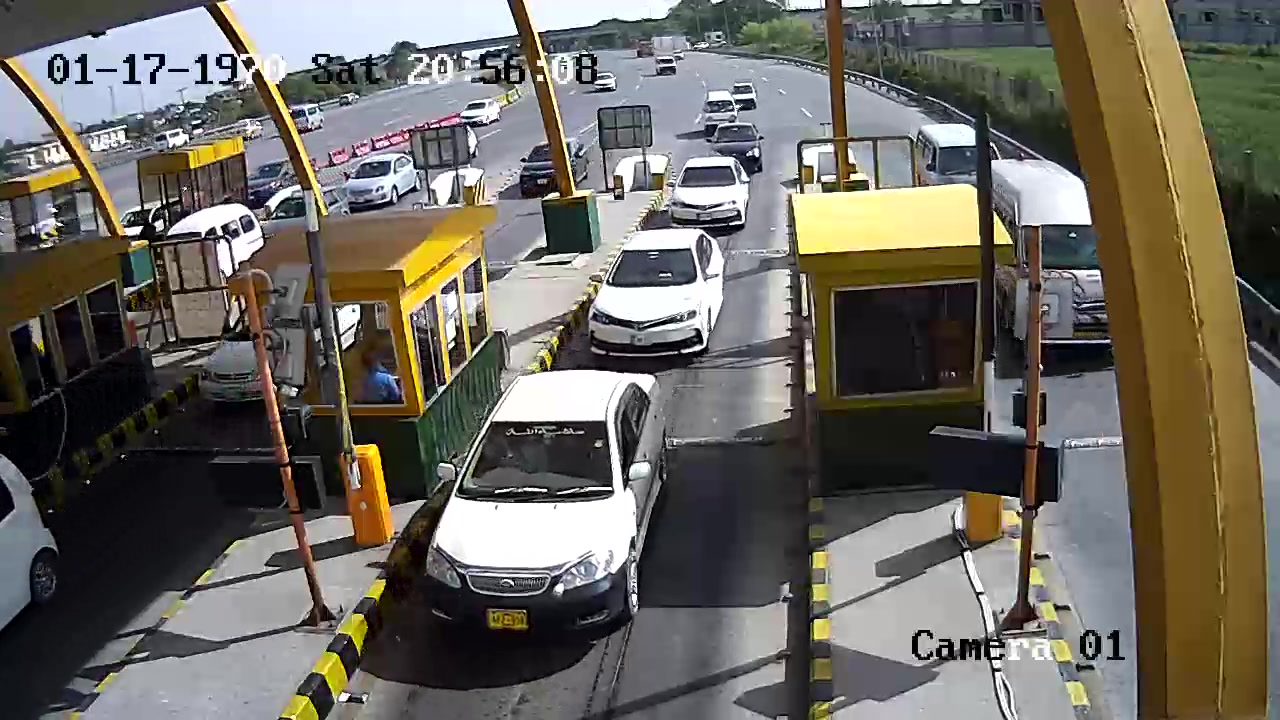F1: (409, 364, 702, 643), (586, 225, 731, 374), (654, 157, 765, 234)
